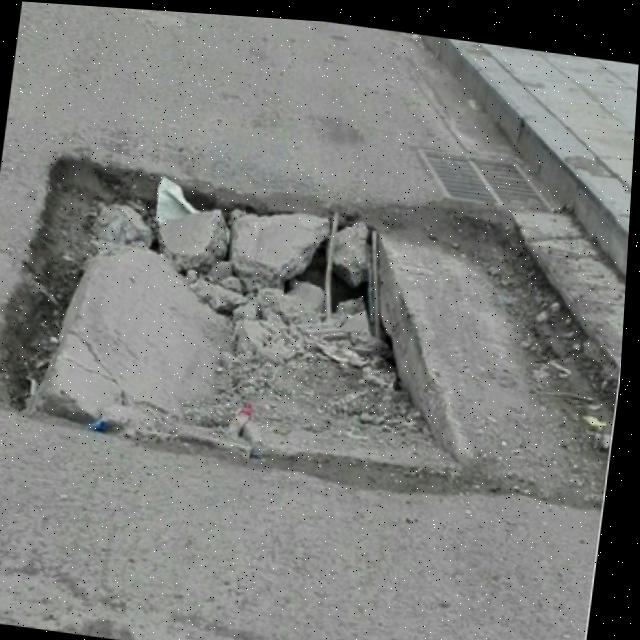manhole: (0, 137, 504, 483)
